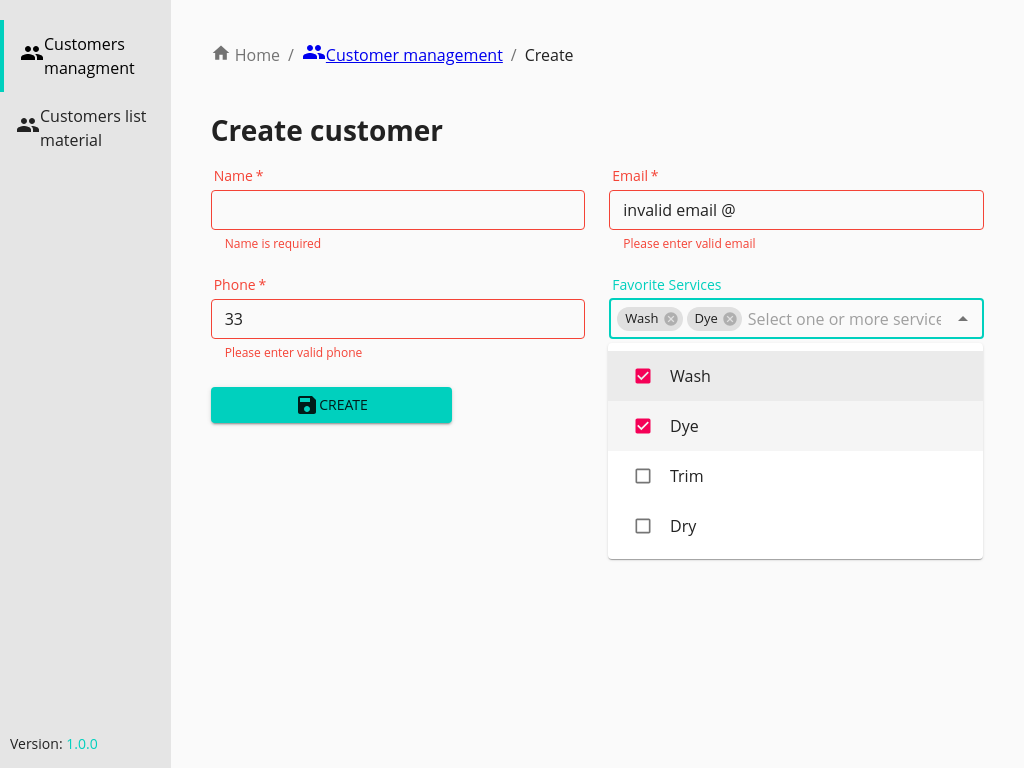
Customers: Create Customer › Customer Form component › Test Click on Create button without enter any data
Clear the field named "email" at (797, 210), box x1=609 y1=190 x2=984 y2=230
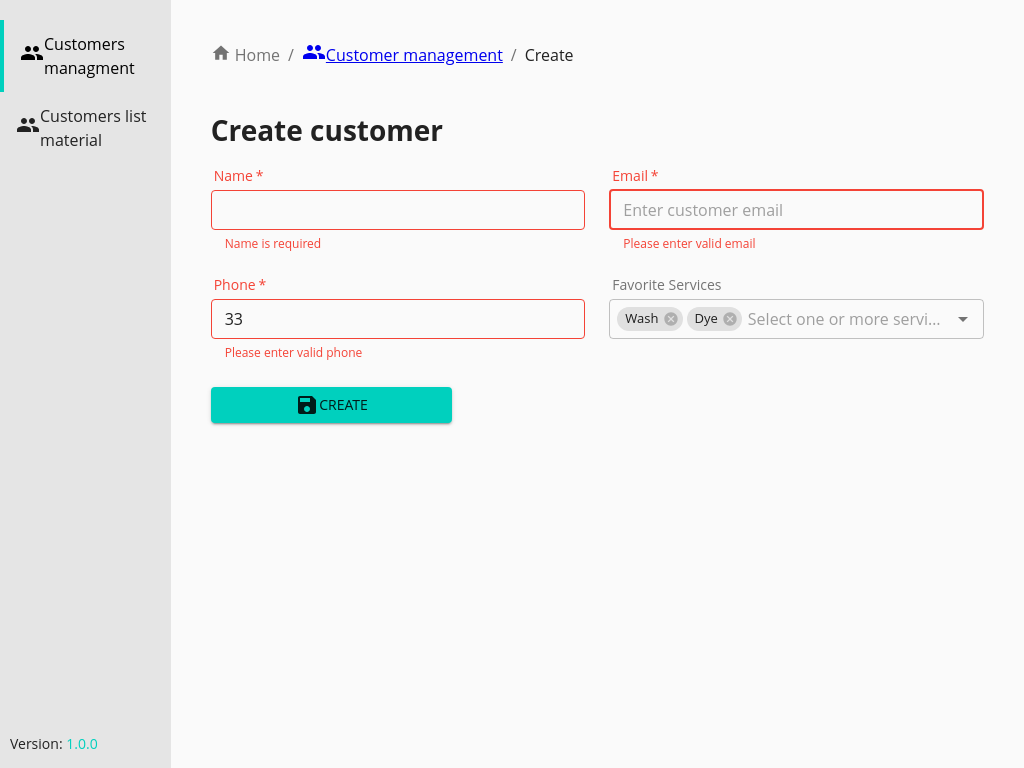
Clear the field named "phone" at (399, 319), box x1=211 y1=299 x2=586 y2=339
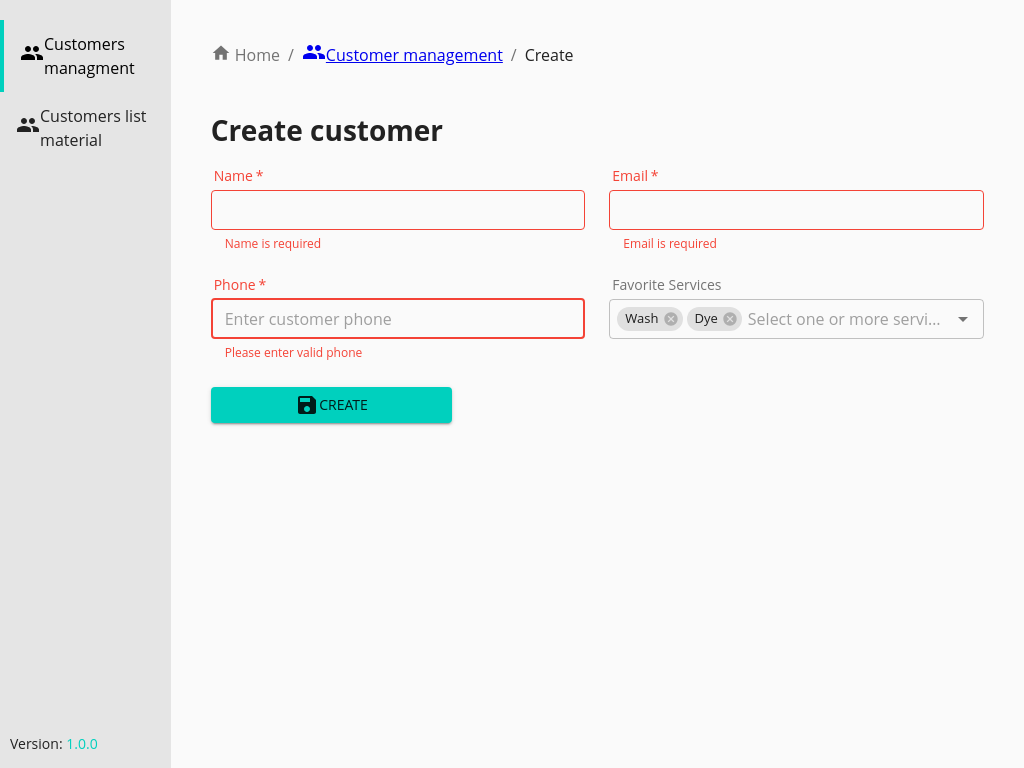
Click the button "Create" at (332, 406), box x1=211 y1=387 x2=453 y2=424
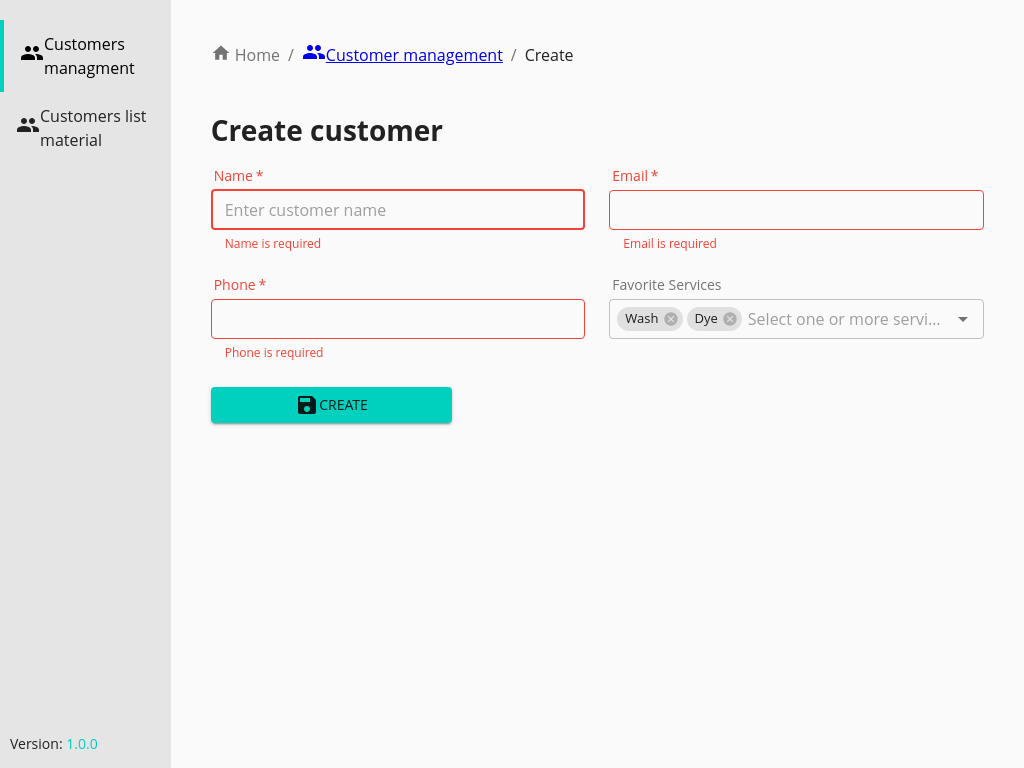
Check: the text "Name is required" is shown, box x1=225 y1=235 x2=321 y2=252
Check: the text with id "input-email-email-Email-helper-text" reads "Email is required", box x1=623 y1=235 x2=717 y2=252
Check: the text with id "input-text-phone-Phone-helper-text" reads "Phone is required", box x1=225 y1=344 x2=324 y2=361
